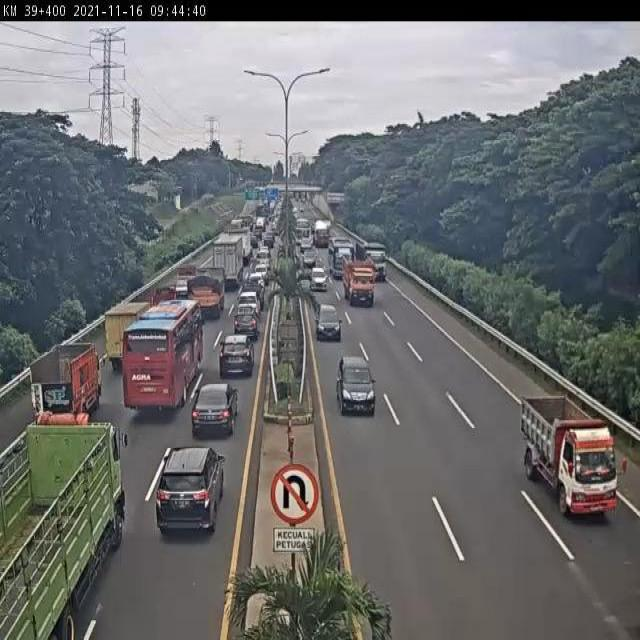big bus: (123, 297, 201, 408)
big truck: (341, 255, 376, 304)
car: (157, 445, 223, 536), (191, 384, 236, 437), (337, 356, 375, 416), (218, 333, 253, 375), (315, 302, 343, 338), (232, 312, 259, 339), (238, 292, 260, 316), (310, 268, 328, 291)
small truck: (105, 298, 155, 371)
truck-l-: (213, 235, 247, 289)
truck-m-: (2, 414, 125, 640), (520, 394, 616, 514), (30, 341, 100, 415), (185, 267, 226, 316)
